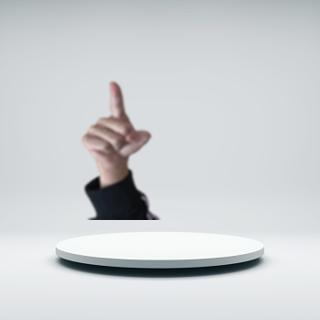IRRITATED: (78, 79, 153, 170)
